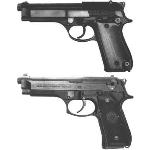Pistol: (17, 73, 133, 149), (17, 2, 133, 72)
